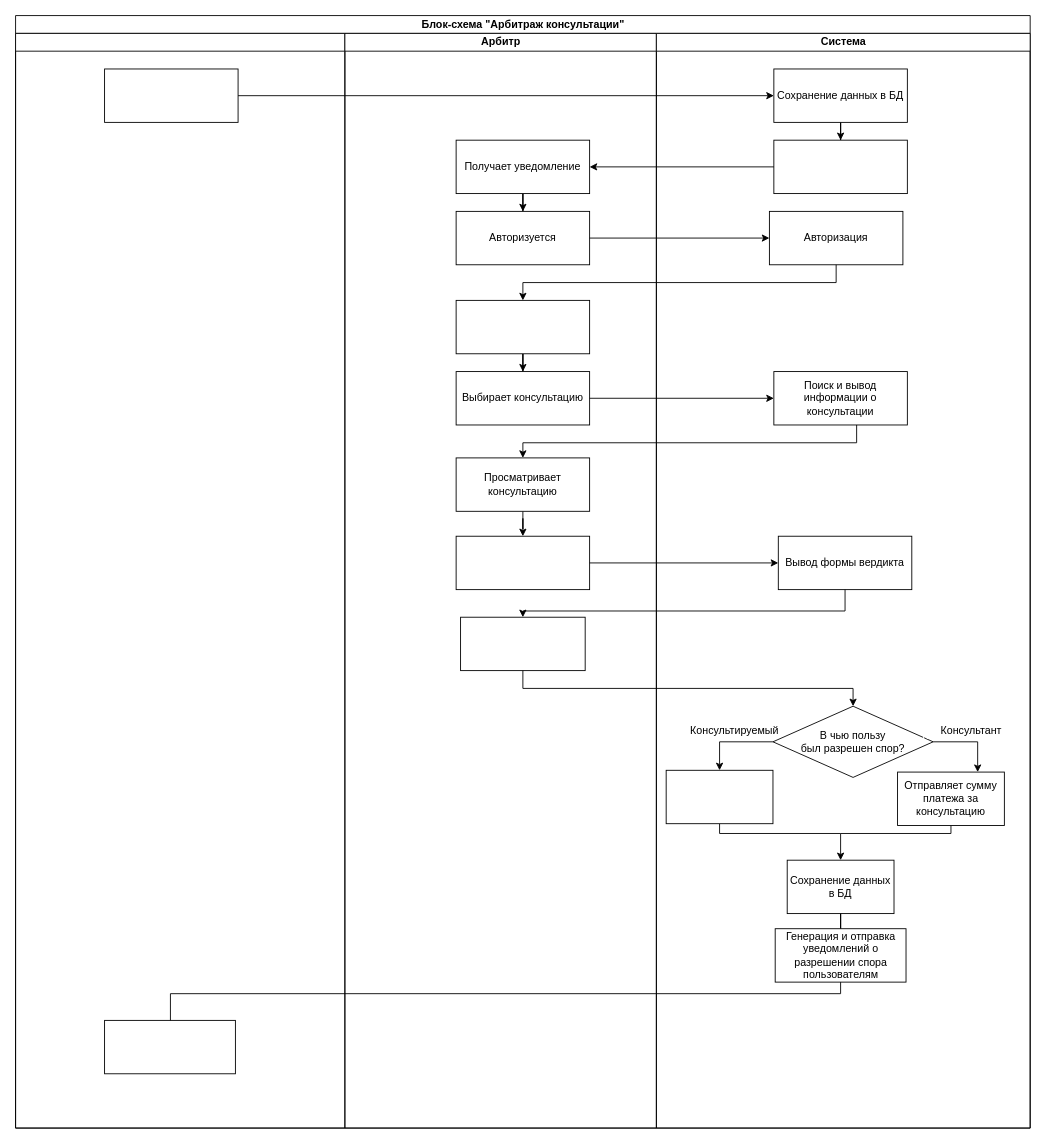
Image size: 1046x1144. Some labels were removed from this diagram. The box of each missing label's shape, as (x1, y1, x2, y2) in pixels:
Возвращает сумму платежа за консультацию: (665, 769, 773, 824)
Выбирает вердикт, пишет причину вердикта: (460, 616, 585, 671)
Выбирает функцию вынесения вердикта: (455, 535, 590, 590)
Генерация и отправка Арбитру уведомления о новой заявке на Арбитраж: (773, 139, 907, 194)
Заходит в ЛК Арбитраж: (455, 299, 590, 354)
Отправляют консультацию на Арбитраж: (104, 68, 238, 122)
Получают уведомления о разрешении спора: (104, 1019, 235, 1074)
Пользователи: (15, 32, 345, 1128)
